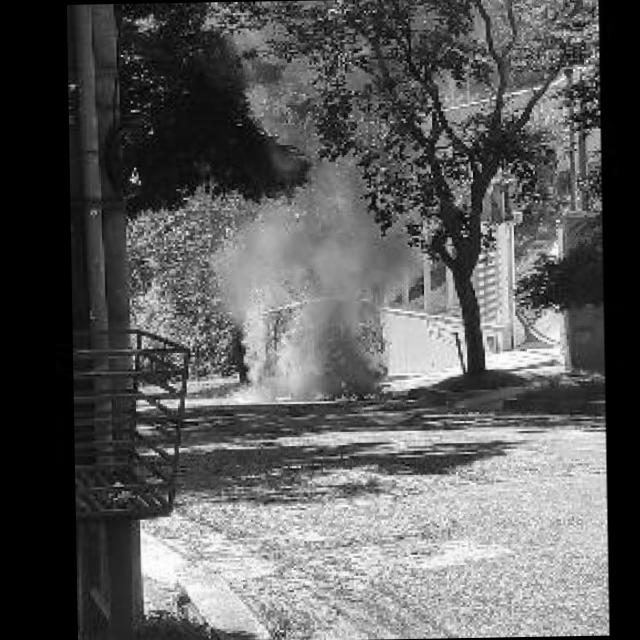fire: (240, 284, 274, 364), (284, 264, 316, 330), (360, 302, 390, 369), (314, 316, 348, 372), (336, 380, 356, 400), (364, 391, 382, 398)
